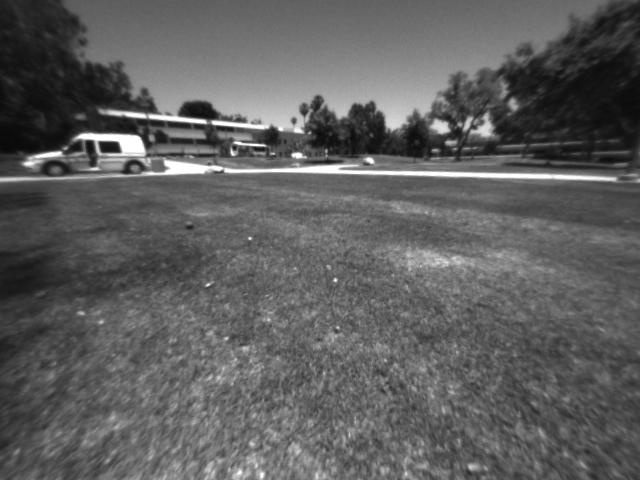dogtoy: (179, 213, 204, 238)
